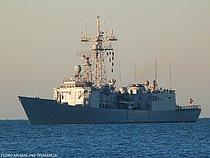MIL_Ship: (17, 14, 202, 124)
